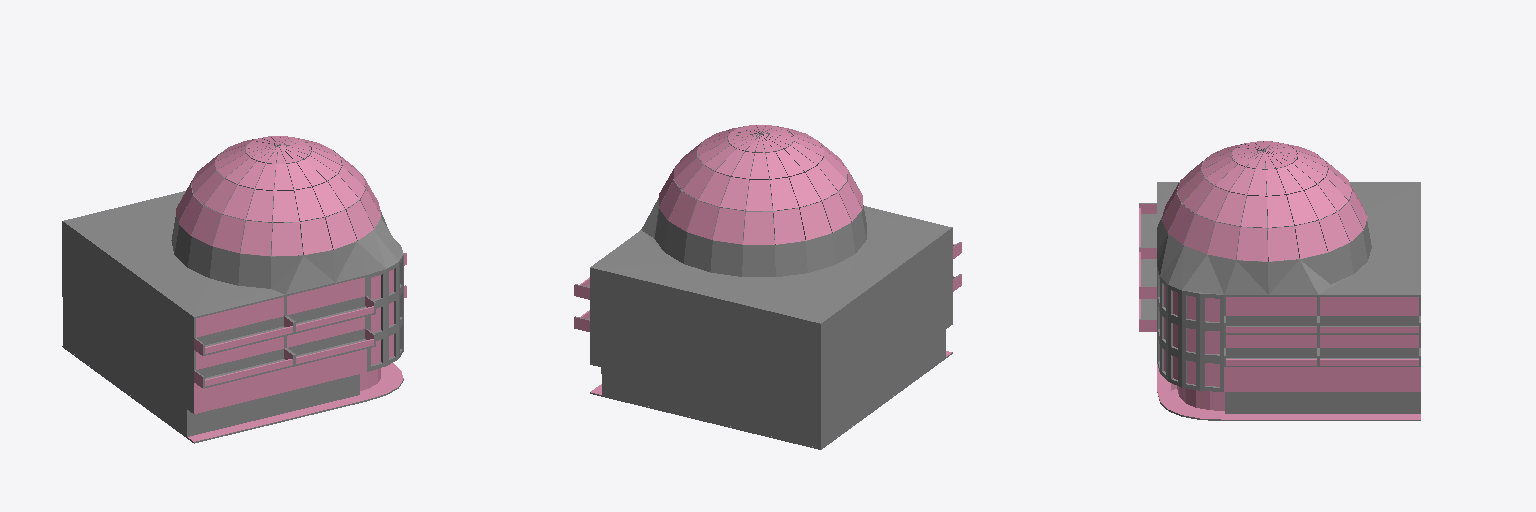
File: domebuilding_001.obj
The picture shows the model from 3 angles: view 1: azimuth 30°, elevation 25°; view 2: azimuth 150°, elevation 25°; view 3: azimuth 270°, elevation 25°; orthographic projection.
Visible parts, largest first — view 1: Sphere001; view 2: Sphere001; view 3: Sphere001.
Part boxes in pixels (bbox=[...]): Sphere001: bbox=[62, 136, 406, 443]; Sphere001: bbox=[574, 125, 961, 449]; Sphere001: bbox=[1139, 141, 1420, 420].
Bounding box in the file's own units: 318 × 278 × 314.